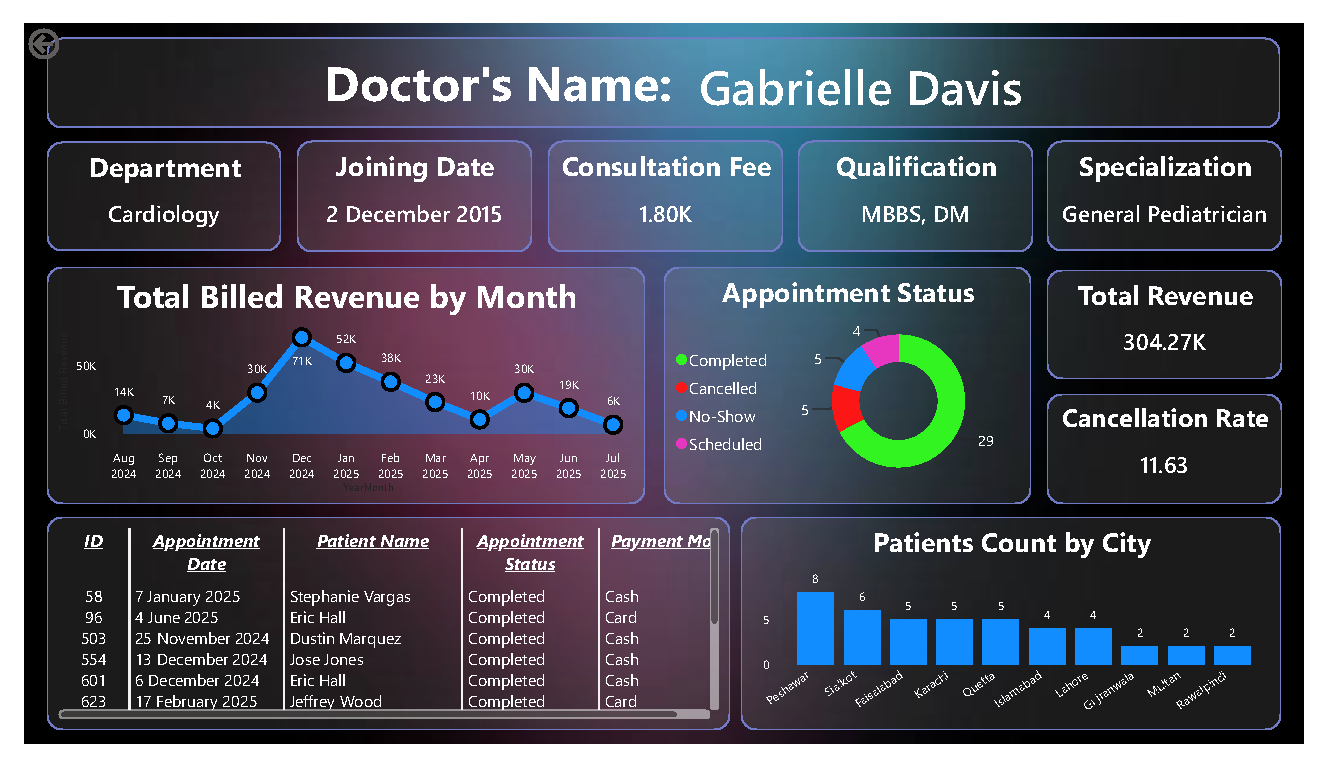

Layout of this report page (visuals, bound fields, positions):
{"tool":"powerbi","page":{"name":"Doctor Details","canvas":[1280,720],"ordinal":4},"visuals":[{"type":"textbox","box":[22.9,14.3,1232.9,90],"z":0},{"type":"cardVisual","title":"No-Show Appointment %","fields":{"Data":["Min(public doctors.Doctor Name)"]},"box":[657.1,14.3,599.5,90.7],"z":1000},{"type":"actionButton","box":[0,0,100,40],"z":2000},{"type":"cardVisual","title":"Department","fields":{"Data":["Min(public departments.department_name)"]},"box":[22.7,117.6,233.9,109.1],"z":3000},{"type":"cardVisual","title":"Joining Date","fields":{"Data":["Min(public doctors.joining_date)"]},"box":[272.9,117.1,234.7,111.1],"z":4000},{"type":"cardVisual","title":"Specialization","fields":{"Data":["Min(public doctors.specialization)"]},"box":[1022.9,117.1,234.7,109.7],"z":5000},{"type":"cardVisual","title":"Qualification","fields":{"Data":["Min(public doctors.qualification)"]},"box":[774.3,117.1,234.7,111.1],"z":6000},{"type":"cardVisual","title":"Consultation Fee","fields":{"Data":["Avg(public doctors.Consultation Fee)"]},"box":[524.3,117.1,234.7,111.1],"z":7000},{"type":"tableEx","title":"Top 10 Patients by Revenue","fields":{"Values":["public appointments.appointment_id","public appointments.appointment_date","public patients.Patient Name","public appointments.Appointment Status","public appointments.Payment Mode"]},"box":[22.9,492.9,682.9,212.9],"z":8000},{"type":"lineChart","title":"Total Billed Revenue by Month","fields":{"Y":["Measure Table.Total Billed Revenue"],"Category":["DimDate.YearMonth"]},"box":[22.9,242.9,598.6,237.1],"z":9000},{"type":"donutChart","title":"Appointment Status","fields":{"Category":["public appointments.Appointment Status"],"Y":["CountNonNull(public appointments.Appointment Status)"]},"box":[640,242.9,367.1,237.1],"z":10000},{"type":"cardVisual","title":"Total Revenue","fields":{"Data":["Measure Table.Total Billed Revenue"]},"box":[1022.9,245.7,234.7,109.7],"z":11000},{"type":"cardVisual","title":"Cancellation Rate","fields":{"Data":["Measure Table.Cancelled Appointment %"]},"box":[1022.9,370,234.7,109.7],"z":12000},{"type":"columnChart","title":"Patients Count by City","fields":{"Category":["public patients.city"],"Y":["CountNonNull(public appointments.patient_id)"]},"box":[717.1,492.9,540,212.9],"z":13000}]}

Visuals, with their boxes in screenshot pixels (x1, y1, x2, y2), scaled from the page's 1280x720 canvas onto the 1328x768 screenshot:
textbox: region(24, 15, 1303, 111)
"No-Show Appointment %" cardVisual: region(682, 15, 1304, 112)
actionButton: region(0, 0, 104, 43)
"Department" cardVisual: region(24, 125, 266, 242)
"Joining Date" cardVisual: region(283, 125, 527, 243)
"Specialization" cardVisual: region(1061, 125, 1305, 242)
"Qualification" cardVisual: region(803, 125, 1047, 243)
"Consultation Fee" cardVisual: region(544, 125, 787, 243)
"Top 10 Patients by Revenue" tableEx: region(24, 526, 732, 753)
"Total Billed Revenue by Month" lineChart: region(24, 259, 645, 512)
"Appointment Status" donutChart: region(664, 259, 1045, 512)
"Total Revenue" cardVisual: region(1061, 262, 1305, 379)
"Cancellation Rate" cardVisual: region(1061, 395, 1305, 512)
"Patients Count by City" columnChart: region(744, 526, 1304, 753)
